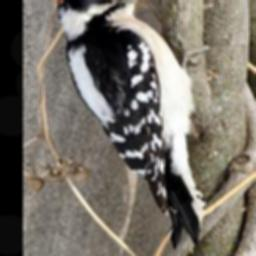Woodpecker: (56, 0, 207, 249)
